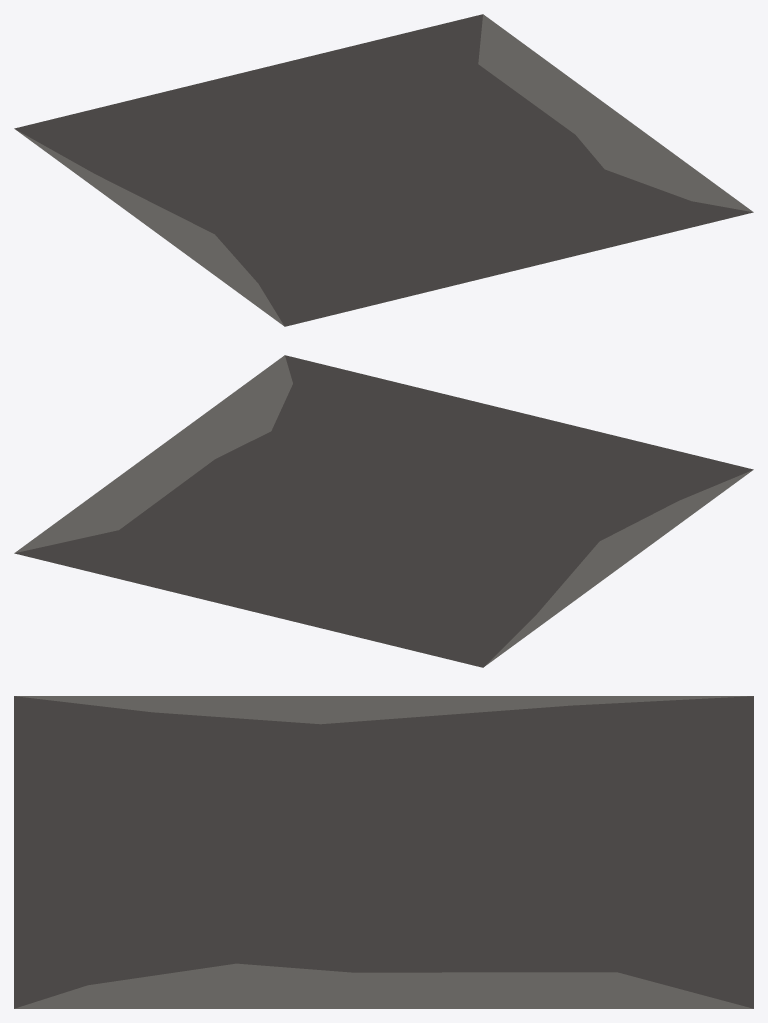
File: AI_Env_Floor_01_Burnt.fbx
The picture shows the model from 3 angles, top to bottom: view 1: azimuth 30°, elevation 25°; view 2: azimuth 150°, elevation 25°; view 3: azimuth 270°, elevation 25°; orthographic projection. The views are drawn at different scales.
Parts seen in each view (by area): view 1: AI_Env_Floor_01_Burnt; view 2: AI_Env_Floor_01_Burnt; view 3: AI_Env_Floor_01_Burnt.
Part boxes in pixels (<box>): AI_Env_Floor_01_Burnt: <box>14,14,753,326</box>; AI_Env_Floor_01_Burnt: <box>14,355,753,667</box>; AI_Env_Floor_01_Burnt: <box>14,696,753,1008</box>.
Bounding box in the file's own units: 5 × 0 × 5.
